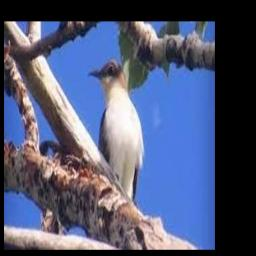Cuckoo: (86, 61, 144, 202)
